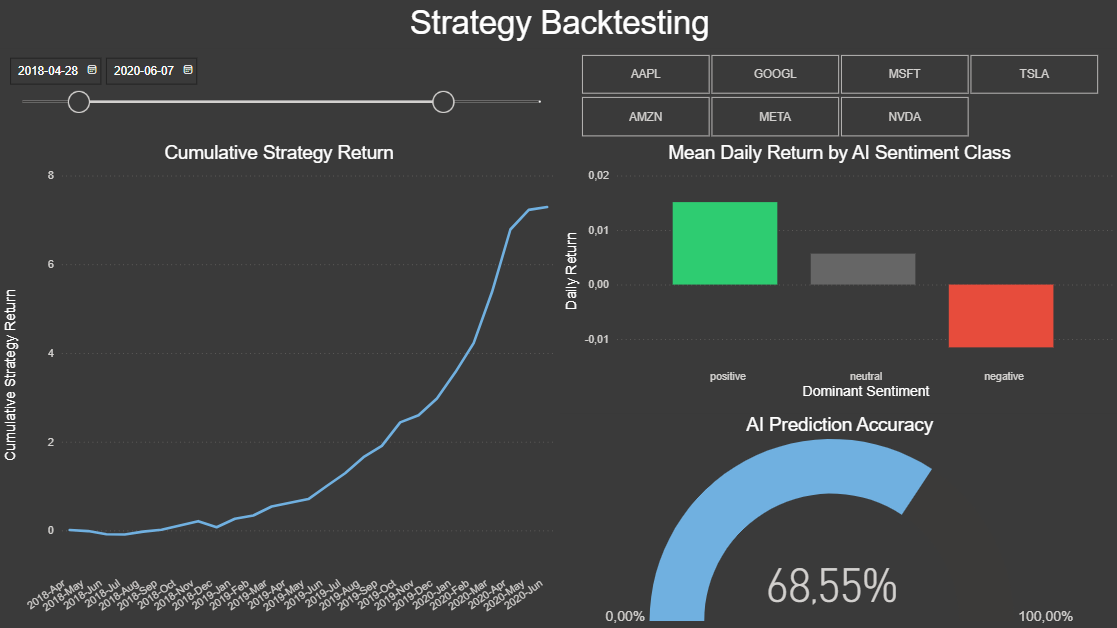

What the dashboard file says about the page in this screenshot:
{"tool":"powerbi","page":{"name":"Strategy Backtesting","canvas":[1280,720],"ordinal":2},"visuals":[{"type":"lineChart","title":"Cumulative Strategy Return","fields":{"Y":["powerbi_dataset.Cumulative Strategy Return"],"Category":["powerbi_dataset.YearMonth"]},"box":[0,162.5,640,556.2],"z":0},{"type":"clusteredColumnChart","title":"Mean Daily Return by AI Sentiment Class","fields":{"Category":["powerbi_dataset.Dominant_Sentiment"],"Y":["Avg(powerbi_dataset.Daily_Return)"]},"box":[641.4,162.9,638.6,298.6],"z":1000},{"type":"gauge","title":"AI Prediction Accuracy","fields":{"Y":["powerbi_dataset.Win Rate %"],"MaxValue":["powerbi_dataset.Measure"]},"box":[641.4,472.9,638.6,247.1],"z":2000},{"type":"textbox","box":[1.4,0,1278.6,55.7],"z":3000},{"type":"slicer","fields":{"Values":["powerbi_dataset.Date"]},"box":[0,55.7,640,107.1],"z":4000},{"type":"slicer","fields":{"Values":["powerbi_dataset.Ticker"]},"box":[640,55.7,640,107.1],"z":5000}]}

Visuals, with their boxes in screenshot pixels (x1, y1, x2, y2), scaled from the page's 1280x720 canvas onto the 1117x628 screenshot:
"Cumulative Strategy Return" lineChart: 0, 142, 558, 627
"Mean Daily Return by AI Sentiment Class" clusteredColumnChart: 560, 142, 1116, 403
"AI Prediction Accuracy" gauge: 560, 412, 1116, 627
textbox: 1, 0, 1116, 49
slicer - powerbi_dataset.Date: 0, 49, 558, 142
slicer - powerbi_dataset.Ticker: 558, 49, 1116, 142
